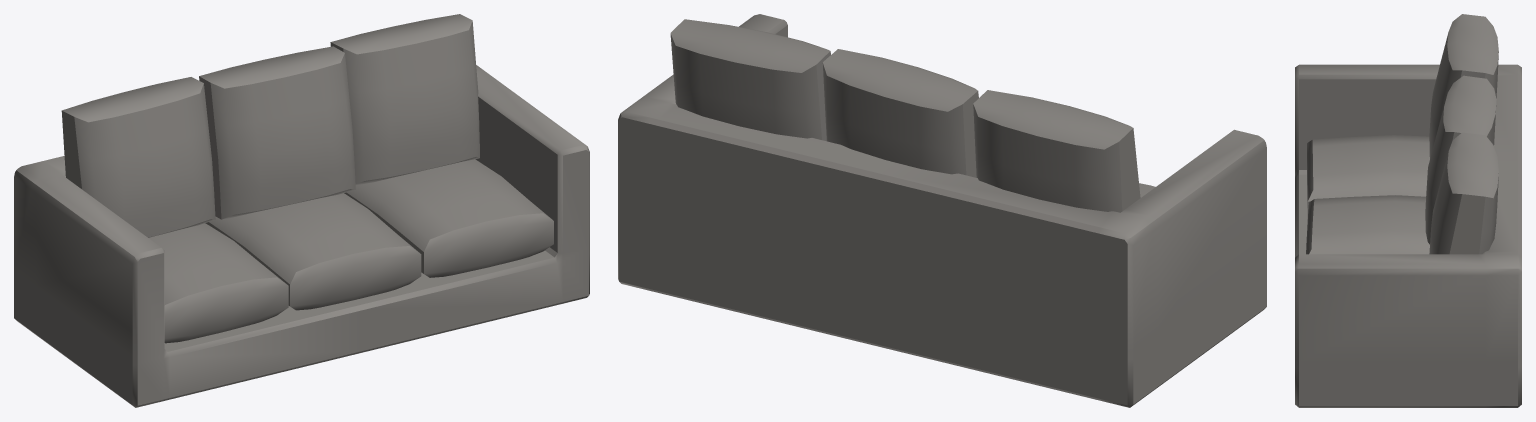
Rendered from pk_motion_grey.glb.
The picture shows the model from 3 angles, left to right: view 1: azimuth 30°, elevation 25°; view 2: azimuth 150°, elevation 25°; view 3: azimuth 270°, elevation 25°; orthographic projection. The views are drawn at different scales.
Parts seen in each view (by area): view 1: pk_motion_grey; view 2: pk_motion_grey; view 3: pk_motion_grey.
Boxes of the visible parts, x1,y1,x2,y2 form: pk_motion_grey: (14, 14, 589, 407); pk_motion_grey: (618, 14, 1266, 407); pk_motion_grey: (1295, 14, 1521, 407).
Bounding box in the file's own units: 2.15 × 1 × 1.
Materials: 1 (1 with a texture image).
